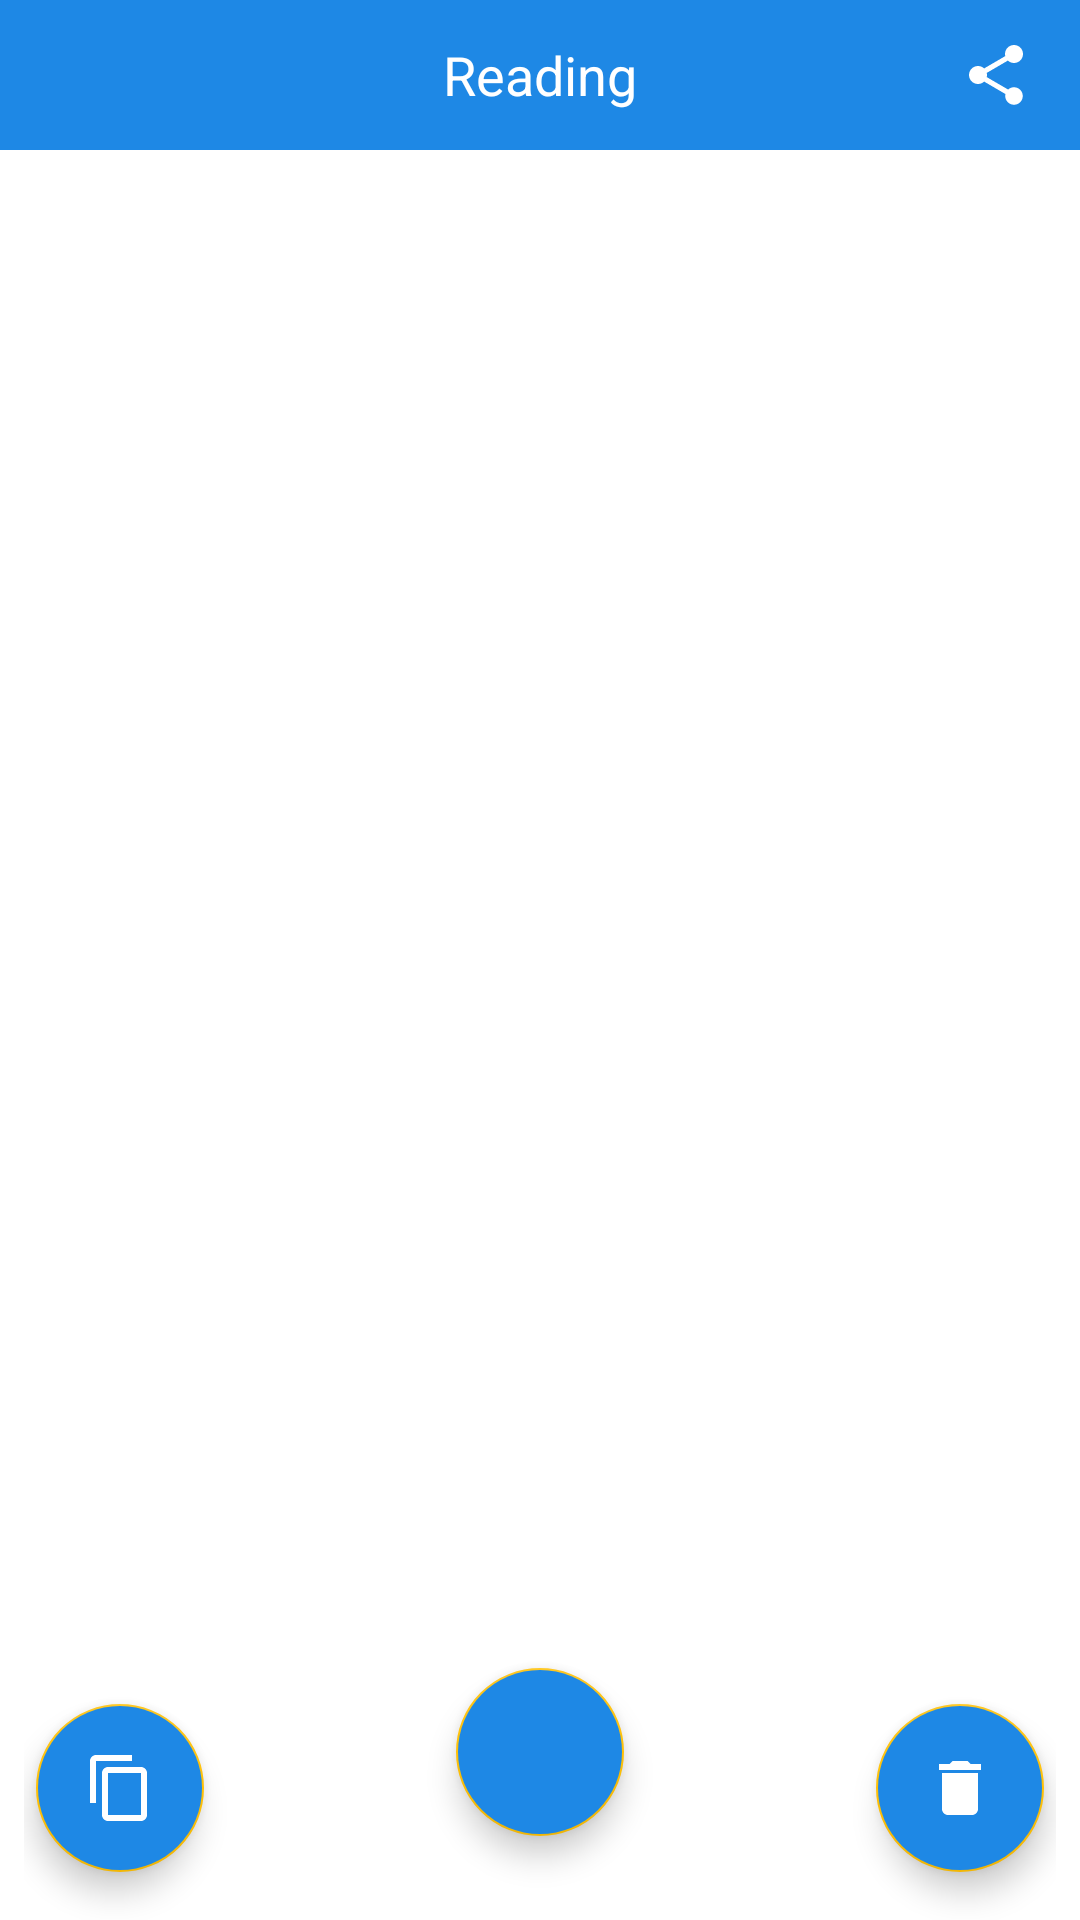

Icons on this 1080w x 1920h Android screen, each with the point to tap as [x,y]:
delete: [960,1788]
share: [996,75]
